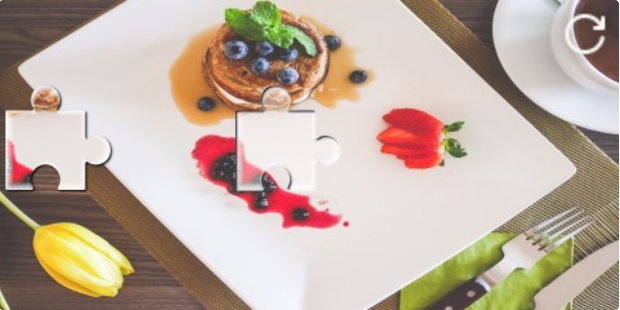target: (236, 86, 341, 191)
